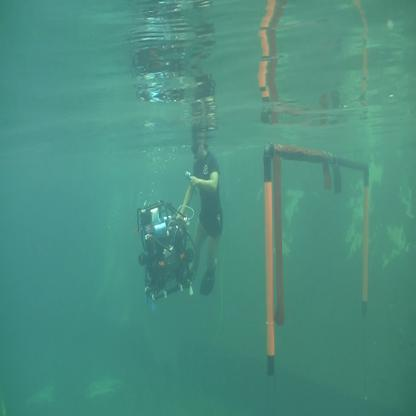gate: (256, 134, 378, 368)
